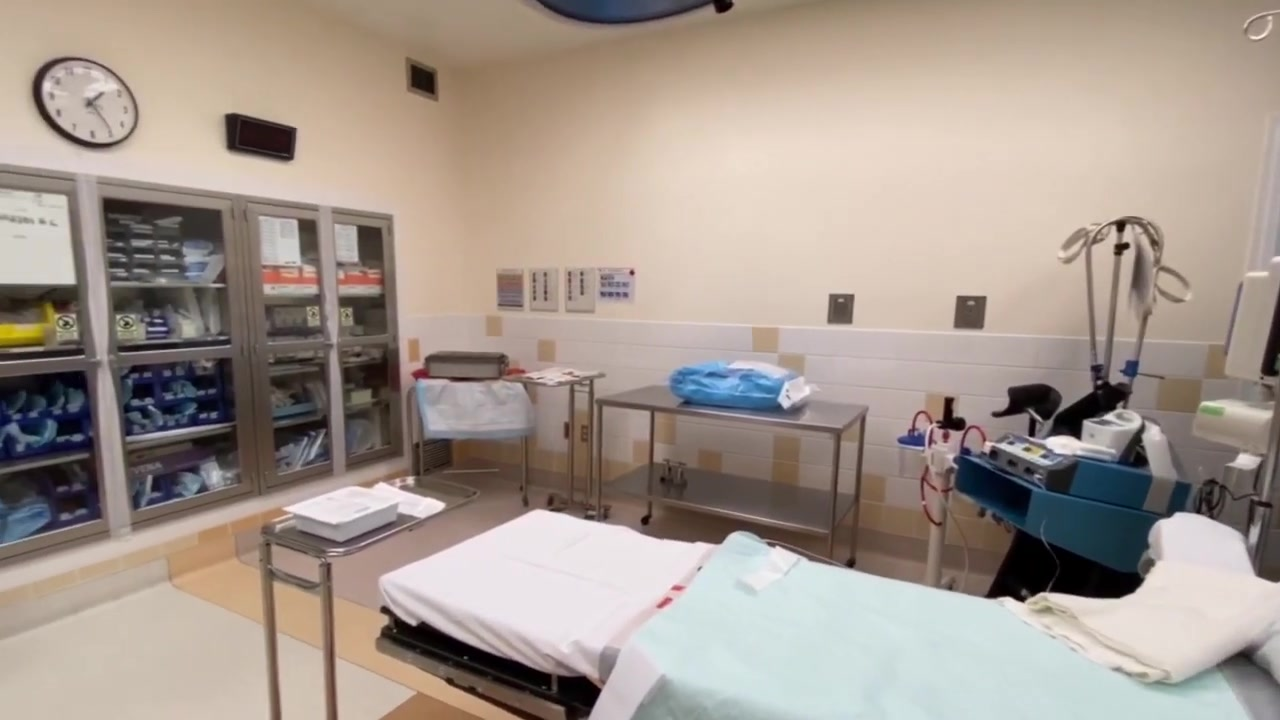cabinet: (1, 165, 412, 545)
electrosurgical_unit: (982, 429, 1184, 511)
iv_pole: (1095, 201, 1147, 392)
operating_bed: (376, 505, 1280, 720)
utility_cart: (259, 475, 480, 720), (593, 381, 871, 565), (504, 364, 600, 509)
